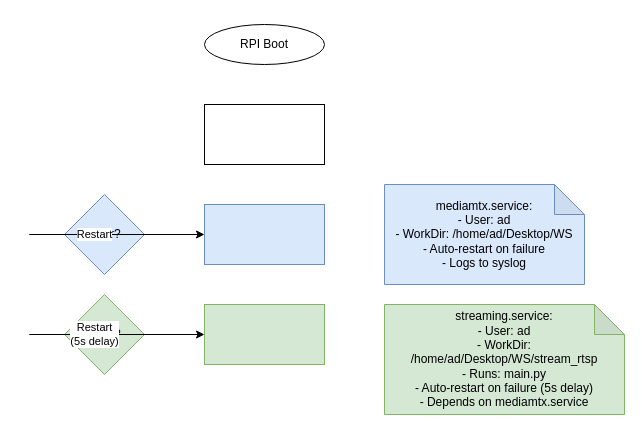
The diagram is 642 pixels wide and 432 high, and some of its shapes have lost their labels. Here are the shapes that lost their labels. From the top down, the box of each, then its label:
(204, 104, 324, 164): Network Service (network.target)
(204, 204, 324, 264): MediaMTX Service (/home/ad/Desktop/WS/mediamtx)
(204, 304, 324, 364): Camera Streaming Service (Python script)
